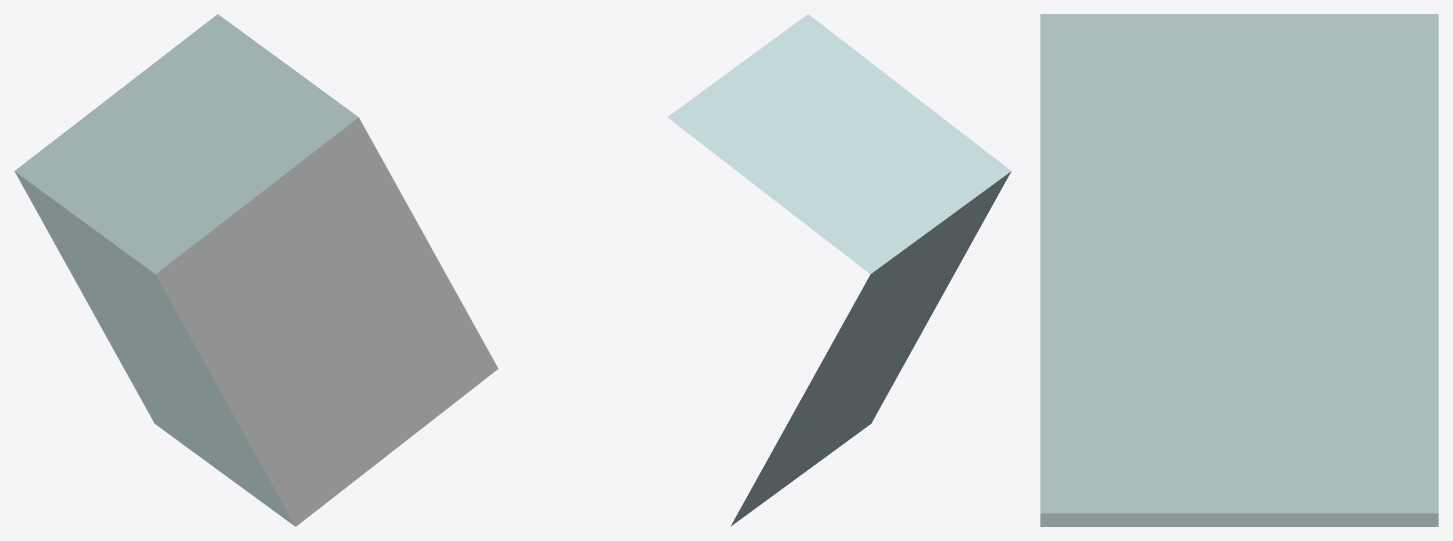
3 renders of one model, left to right at view 1: azimuth 30°, elevation 25°; view 2: azimuth 150°, elevation 25°; view 3: azimuth 270°, elevation 25°, orthographic. The views are drawn at different scales.
Parts seen in each view (by area): view 1: 0_2_2_3_1_1_2_1; view 2: 0_2_2_3_1_1_2_1; view 3: 0_2_2_3_1_1_2_1.
Part boxes in pixels (left/top/right/bottom): 0_2_2_3_1_1_2_1: left=14, top=14, right=498, bottom=526; 0_2_2_3_1_1_2_1: left=667, top=14, right=1011, bottom=526; 0_2_2_3_1_1_2_1: left=1040, top=14, right=1438, bottom=526.
Size of the model in its own units: 4.21 by 4.63 by 3.
